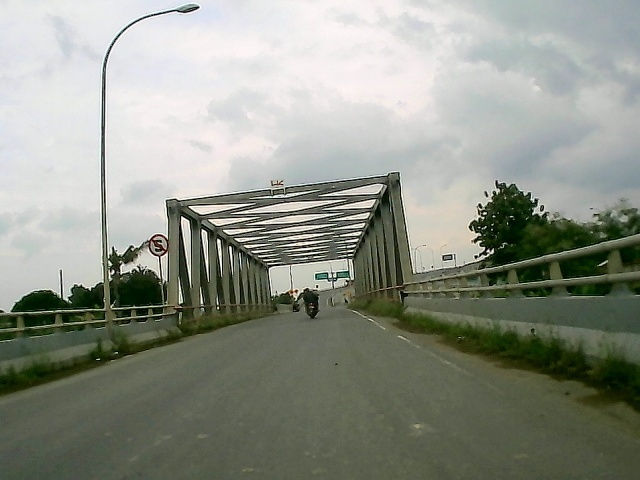Dilarang berhenti: (146, 232, 171, 257)
